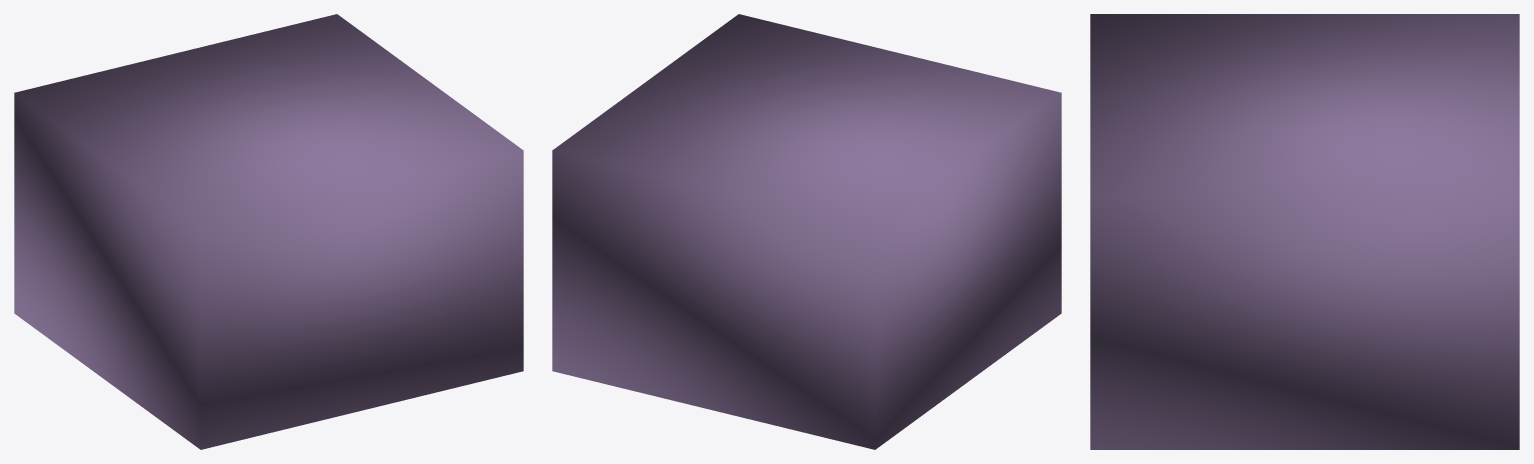
The picture shows the model from 3 angles, left to right: view 1: azimuth 30°, elevation 25°; view 2: azimuth 150°, elevation 25°; view 3: azimuth 270°, elevation 25°; orthographic projection. The views are drawn at different scales.
Parts seen in each view (by area): view 1: Cube; view 2: Cube; view 3: Cube.
Part boxes in pixels (<box>): Cube: <box>14,14,523,449</box>; Cube: <box>552,14,1061,449</box>; Cube: <box>1090,14,1519,449</box>.
Size of the model in its own units: 2 by 1.31 by 2.
